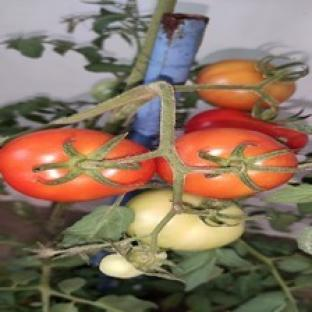Tomato: (0, 129, 155, 201), (176, 129, 298, 199), (186, 109, 309, 150), (158, 204, 245, 250), (195, 59, 267, 86), (99, 254, 143, 278)
